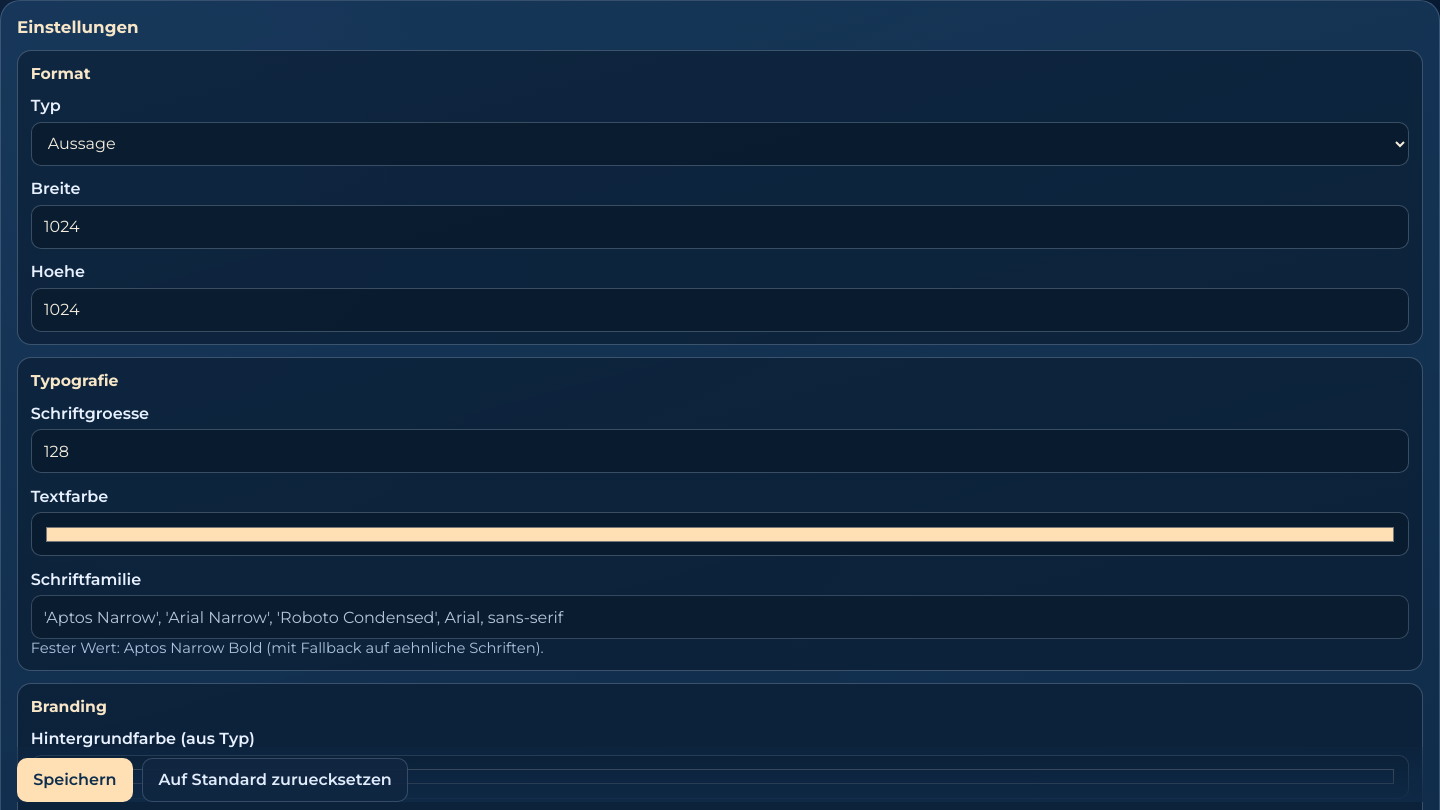
Scenario: pages › settings reset restores #FFE0B5 as text color
The width and height of the screenshot is (1440, 810).
Type "#000000" into the colour field labelled "Textfarbe" at {"x": 720, "y": 534}, box [31,512,1409,556]
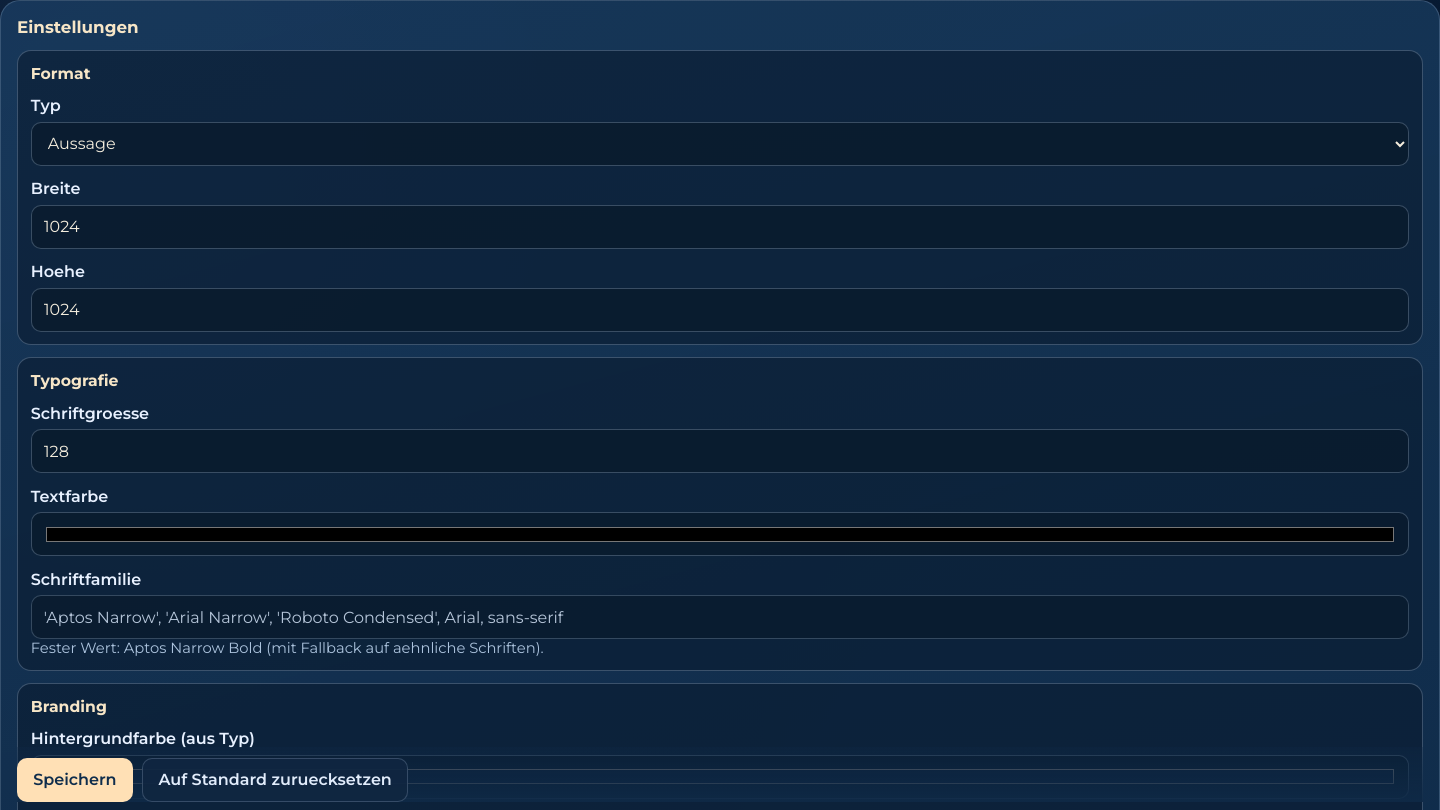
Click the button "Auf Standard zuruecksetzen" at {"x": 275, "y": 780}, box [142,758,408,802]
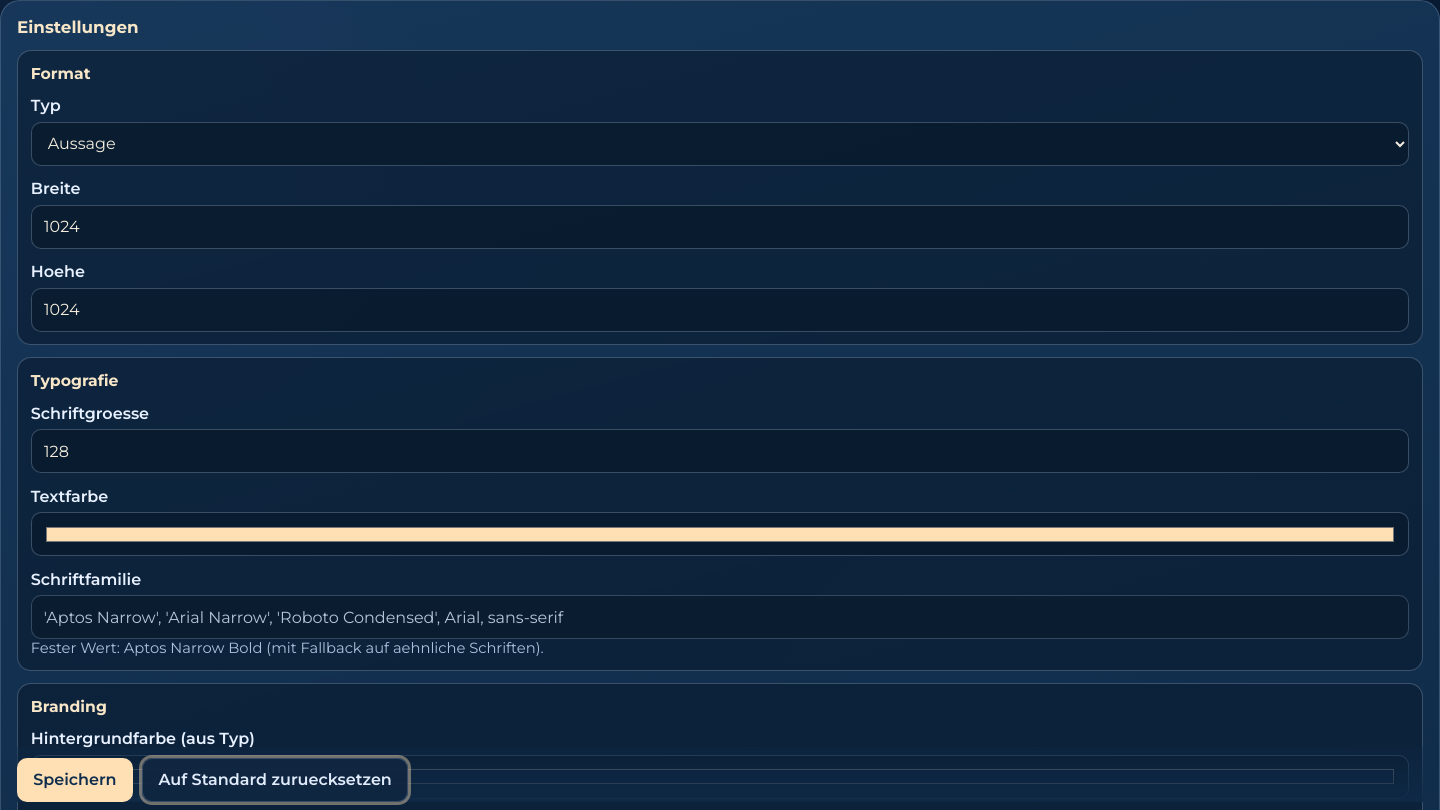
Now the colour field labelled "Textfarbe" holds "#ffe0b5", box [31,512,1409,556]
